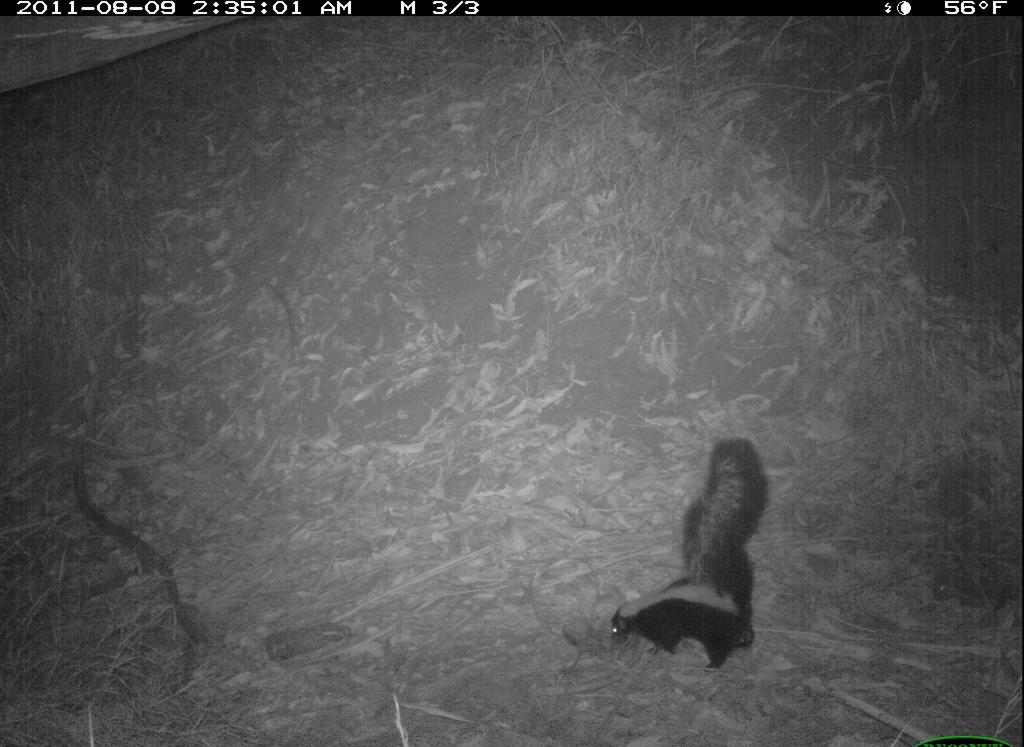skunk: (601, 434, 781, 676)
